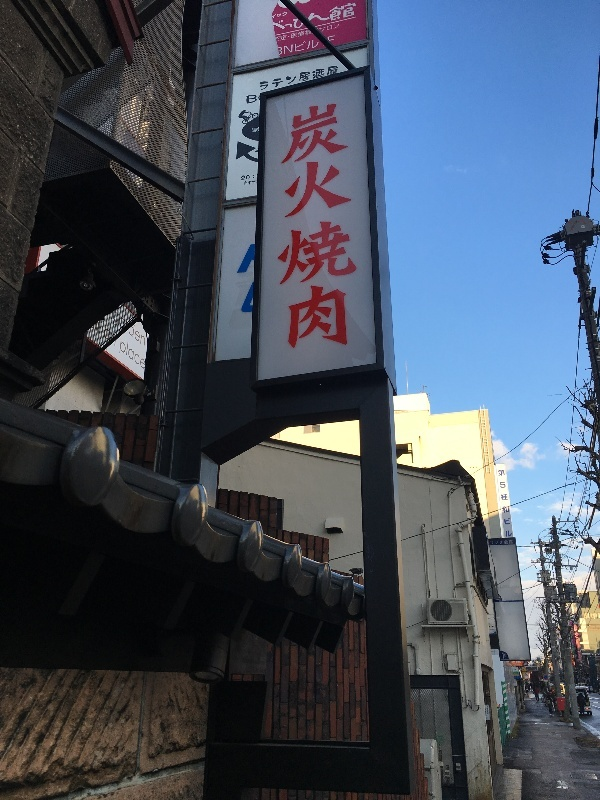text: (289, 97, 304, 350), (305, 97, 320, 350), (321, 97, 336, 350), (337, 97, 352, 350), (353, 97, 359, 350), (283, 97, 288, 350), (129, 338, 144, 374), (505, 470, 512, 538), (273, 63, 288, 93), (289, 63, 304, 93), (305, 63, 320, 93), (321, 63, 336, 93), (130, 321, 144, 348), (260, 63, 272, 93), (337, 2, 352, 22), (114, 310, 128, 330), (289, 39, 304, 56), (305, 39, 320, 56), (121, 338, 128, 374), (273, 19, 288, 31), (289, 19, 304, 31), (289, 30, 304, 42), (278, 39, 288, 56), (276, 30, 288, 42), (329, 2, 336, 22), (321, 24, 336, 33), (273, 11, 288, 19), (105, 327, 112, 341), (305, 30, 313, 42), (241, 175, 256, 181), (247, 95, 256, 104), (353, 2, 357, 22), (497, 540, 512, 545), (502, 652, 512, 659), (245, 180, 256, 186), (337, 63, 339, 93), (145, 338, 146, 374), (337, 24, 340, 33), (145, 321, 146, 348), (491, 540, 496, 545), (305, 19, 307, 31), (252, 128, 256, 133), (321, 39, 322, 56), (513, 540, 514, 545)
